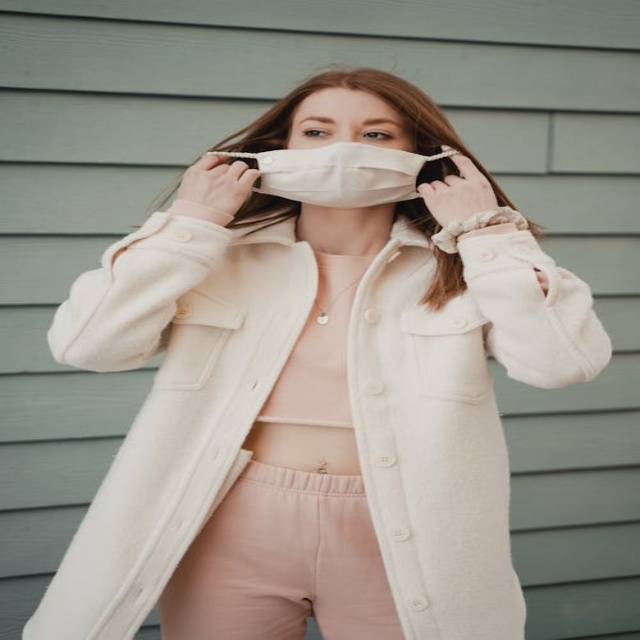Mascara: (217, 142, 445, 209)
Sin_gafas: (292, 113, 407, 145)
Sin_guantes: (413, 142, 506, 227), (168, 150, 268, 218)
